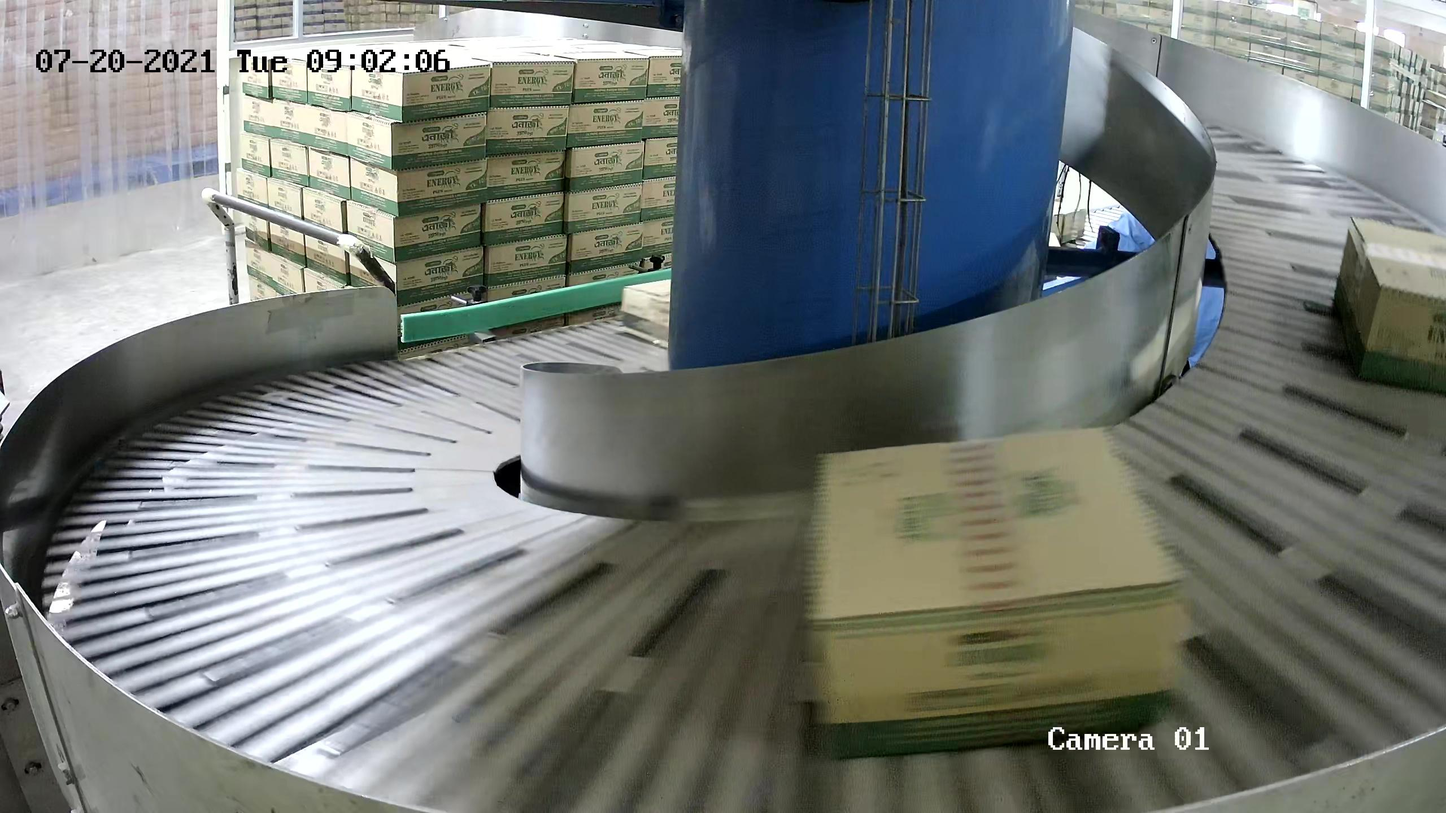Box: (802, 422, 1191, 762), (1331, 215, 1446, 394), (619, 278, 673, 350)
